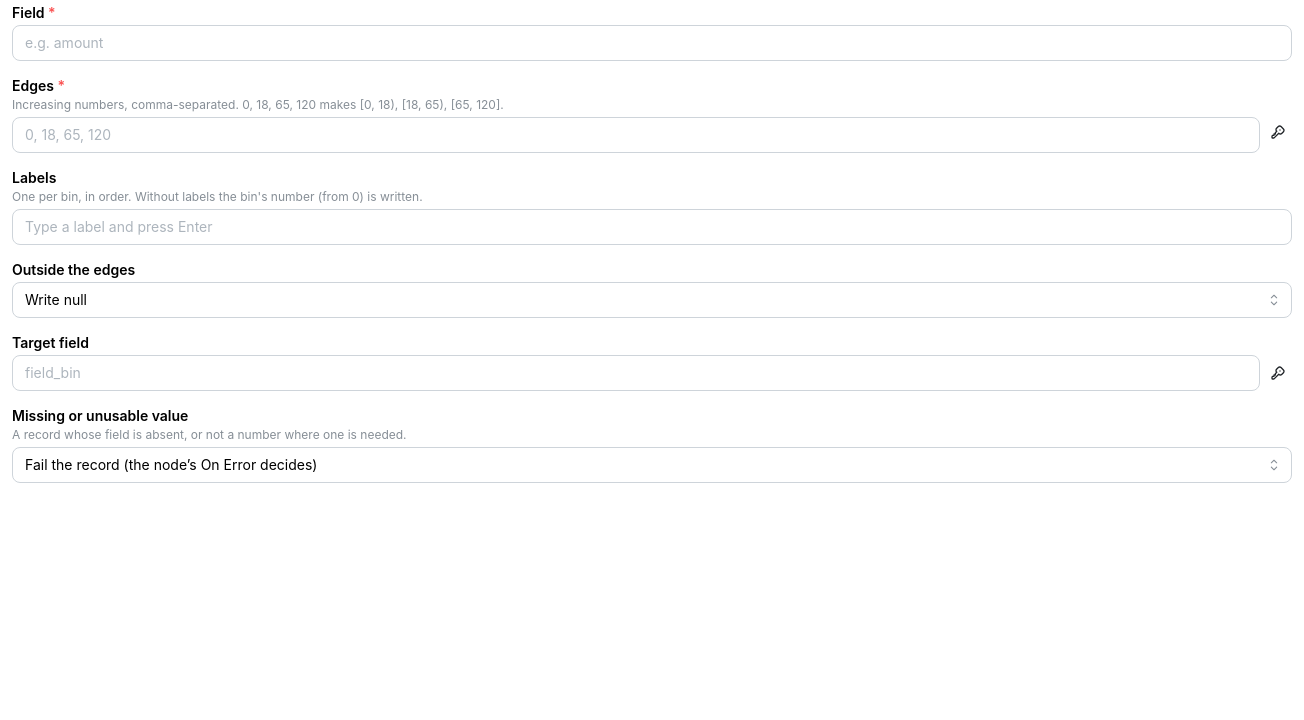
it: feature engineering nodes › bucketize saves edges and labels, and says when they do not match
Type "amount" into the dropdown labelled "Field *". click: (652, 43)
box: [12,25,1292,61]
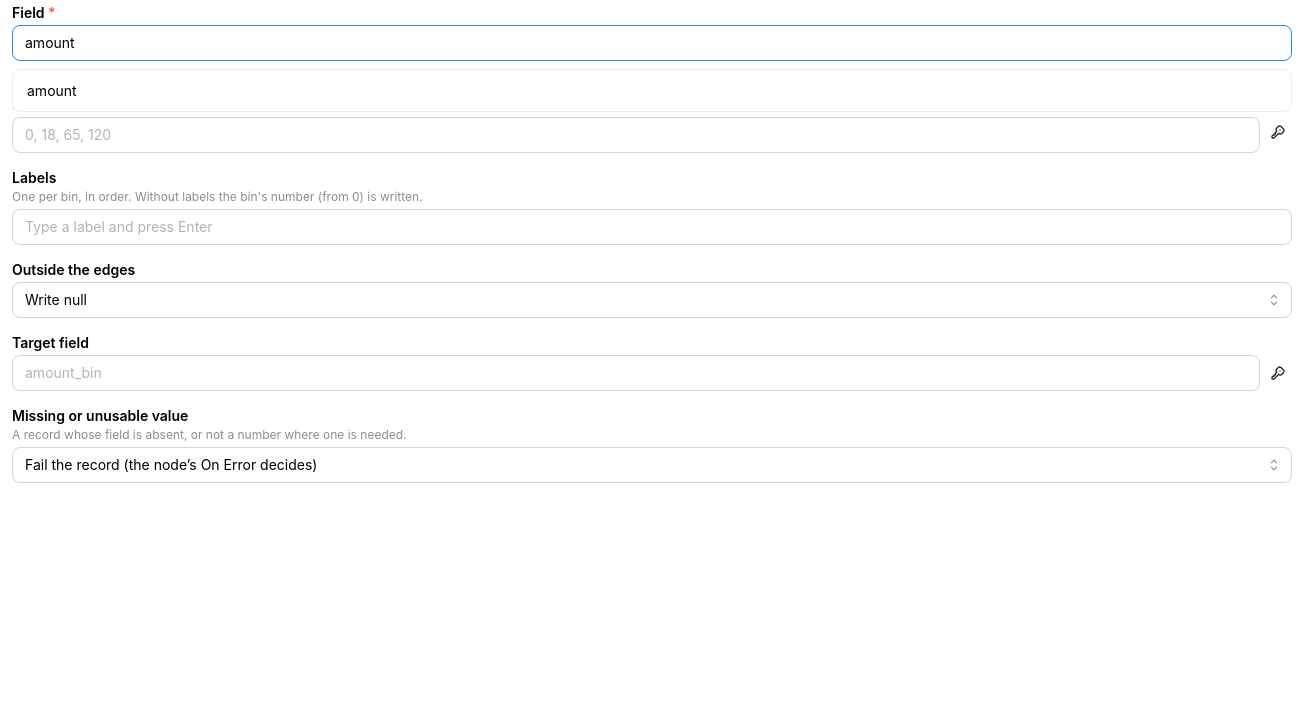
Type "0, 100, 1000" into the field labelled "Edges *". click: (636, 135)
box: [12,117,1260,153]
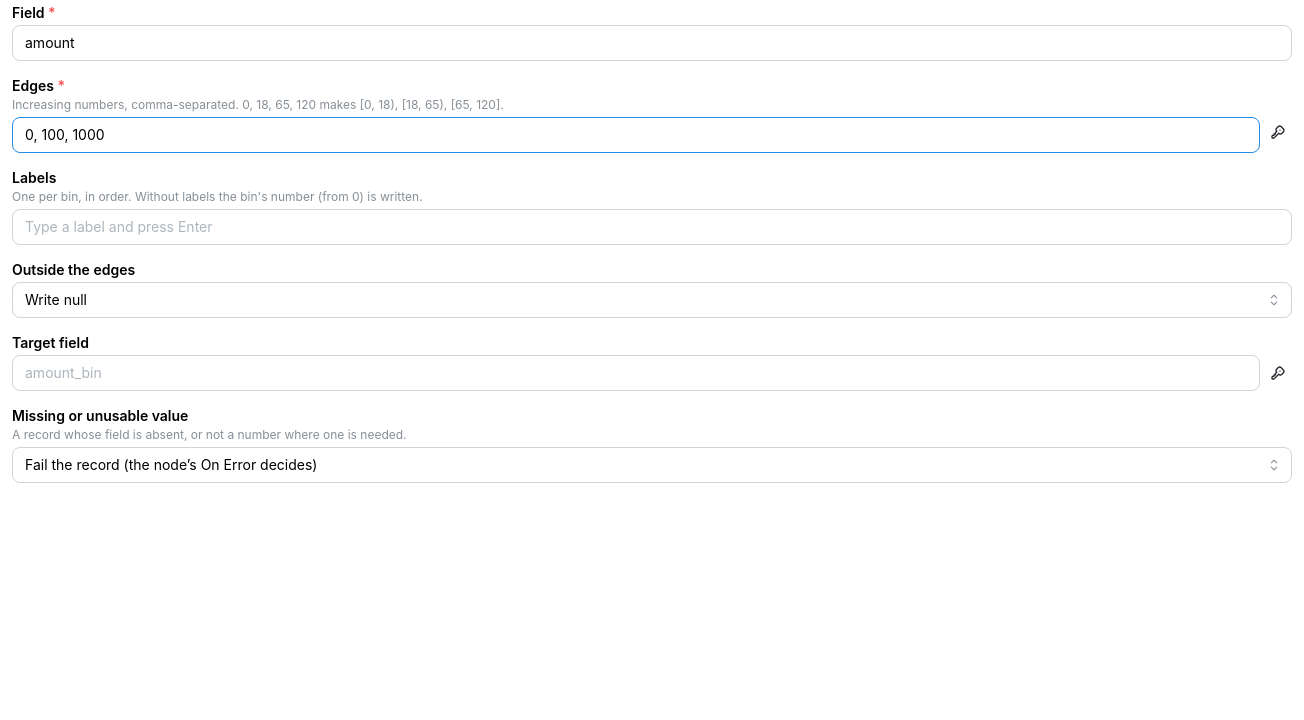
Type "small" into the dropdown labelled "Labels". click: (652, 227)
box: [25,216,1279,238]
Then press Enter
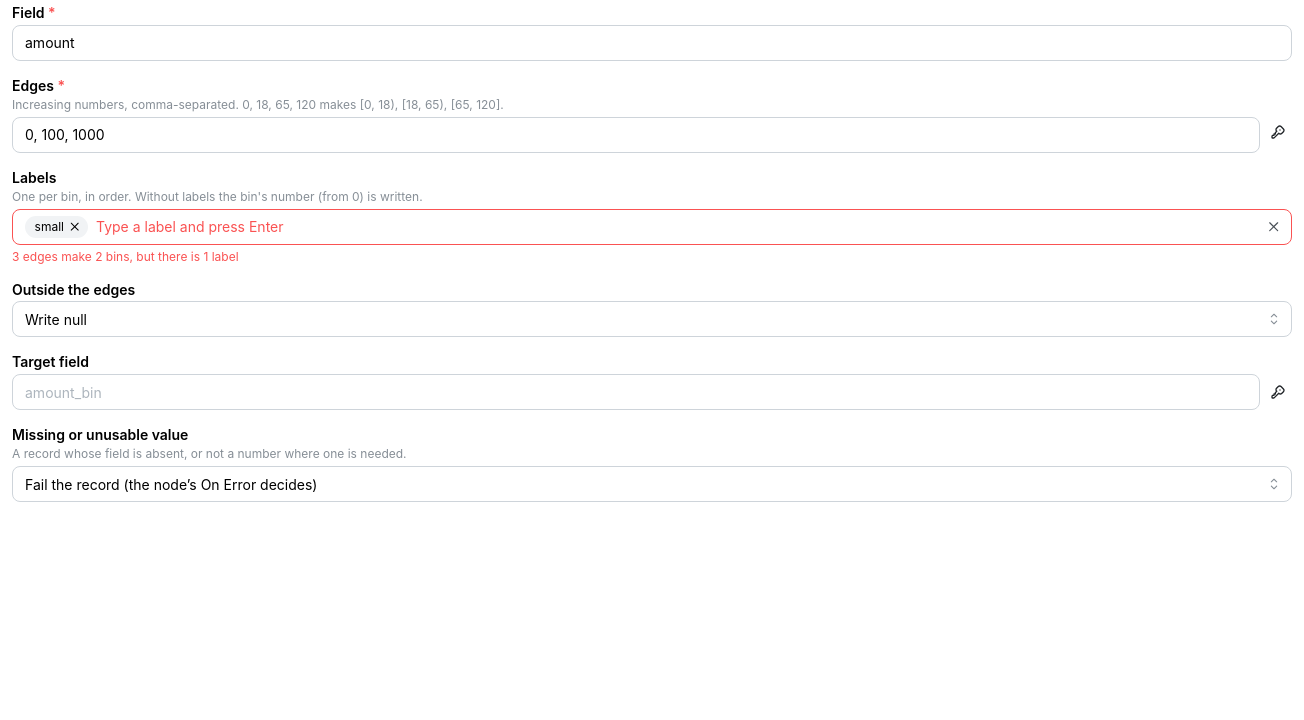
Now the text "3 edges make 2 bins, but there is 1 label" is shown, box [12,249,239,264]
Type "large" into the dropdown labelled "Labels". click: (676, 227)
box: [96,216,1257,238]
Then press Enter
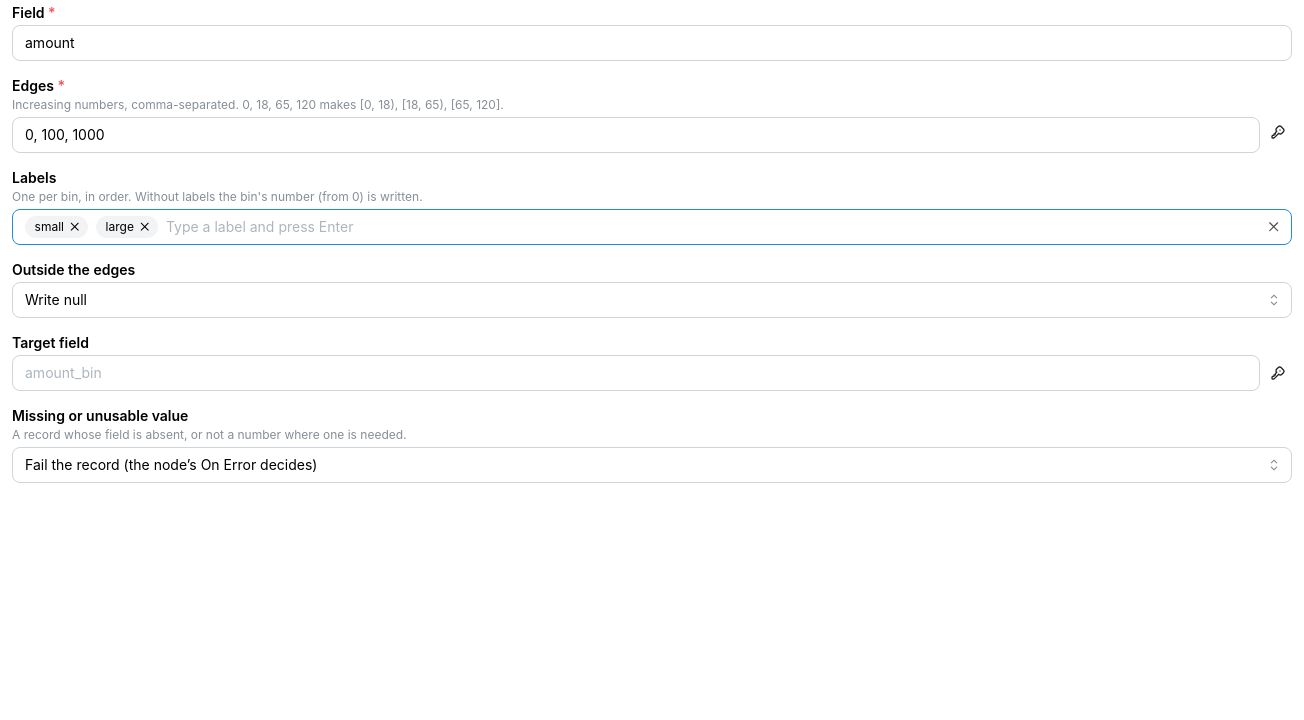
Now the text "edges make" is gone
